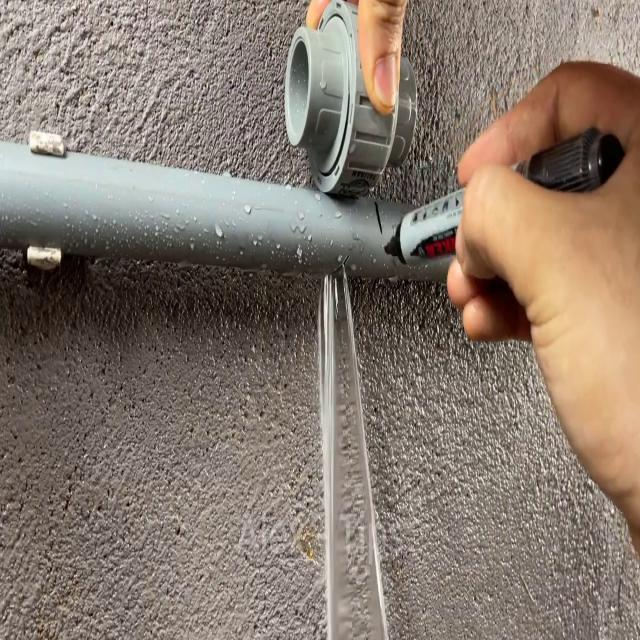leak: (323, 264, 388, 640)
